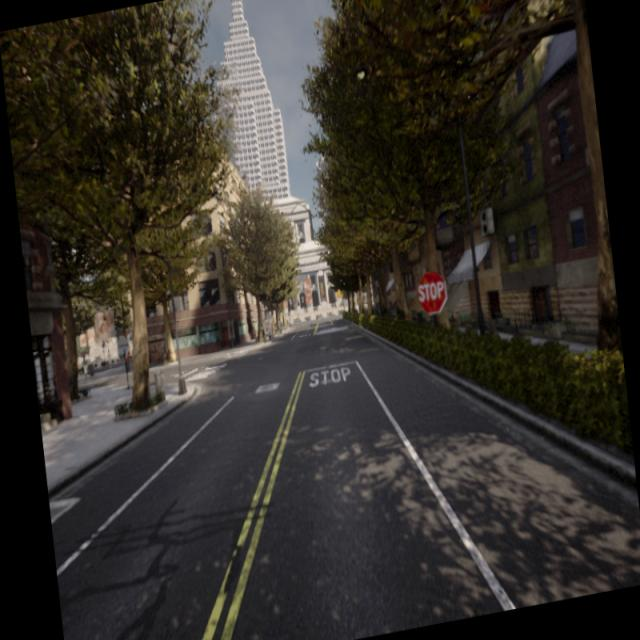stop sign: (415, 268, 449, 317)
